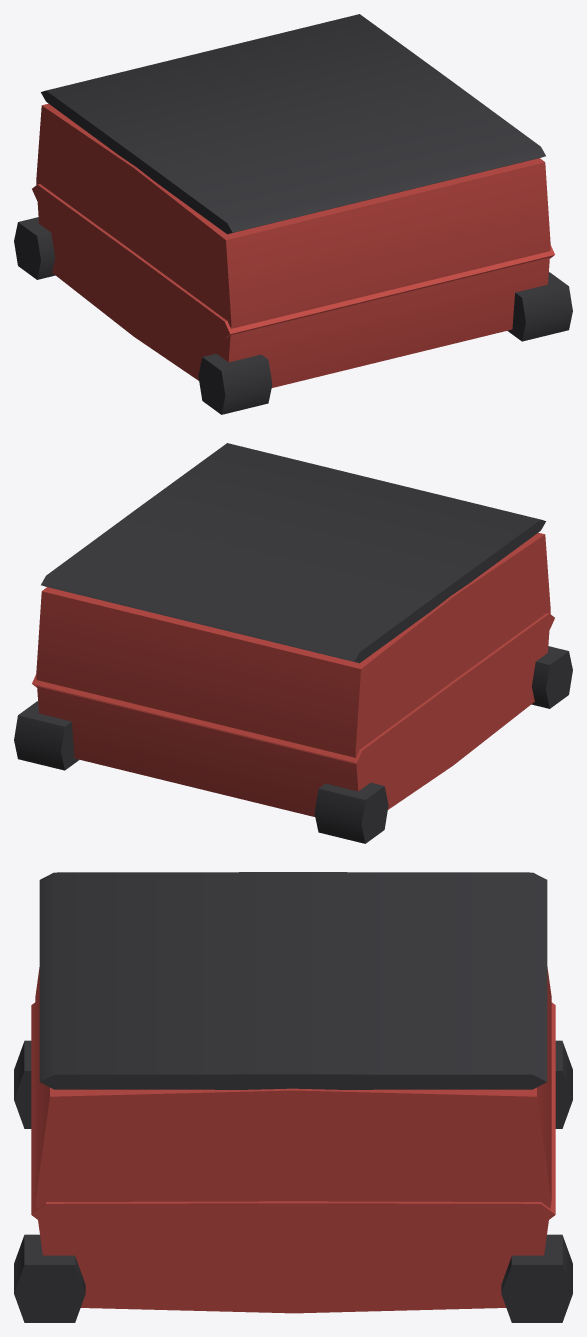
The model's file is alu_top_lod1.glb.
3 views of the same model, one above another, from view 1: azimuth 30°, elevation 25°; view 2: azimuth 150°, elevation 25°; view 3: azimuth 270°, elevation 25° (orthographic). The views are drawn at different scales.
Parts seen in each view (by area): view 1: alu_top_lod1; view 2: alu_top_lod1; view 3: alu_top_lod1.
Boxes of the visible parts, x1,y1,x2,y2 form: alu_top_lod1: (14, 14, 572, 414); alu_top_lod1: (14, 443, 572, 843); alu_top_lod1: (14, 872, 572, 1322).
Bounding box in the file's own units: 0.37 × 0.1829 × 0.39.
